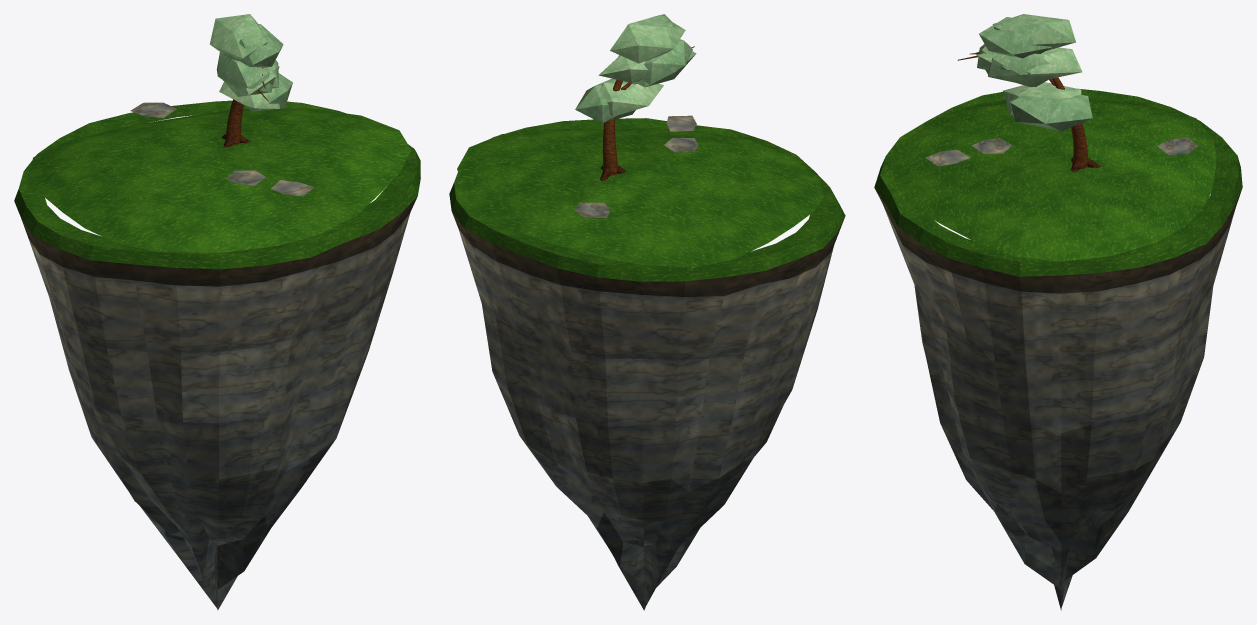
The model's file is islet_crag_a.glb.
3 views of the same model, side by side, from view 1: azimuth 30°, elevation 25°; view 2: azimuth 150°, elevation 25°; view 3: azimuth 270°, elevation 25° (orthographic). The views are drawn at different scales.
Parts seen in each view (by area): view 1: islet_crag_a; view 2: islet_crag_a; view 3: islet_crag_a.
Part boxes in pixels (bbox=[...]): islet_crag_a: bbox=[14, 14, 420, 610]; islet_crag_a: bbox=[449, 14, 845, 610]; islet_crag_a: bbox=[874, 14, 1242, 610].
Size of the model in its own units: 10.05 by 15.58 by 8.67.
4 materials, 4 textured.
